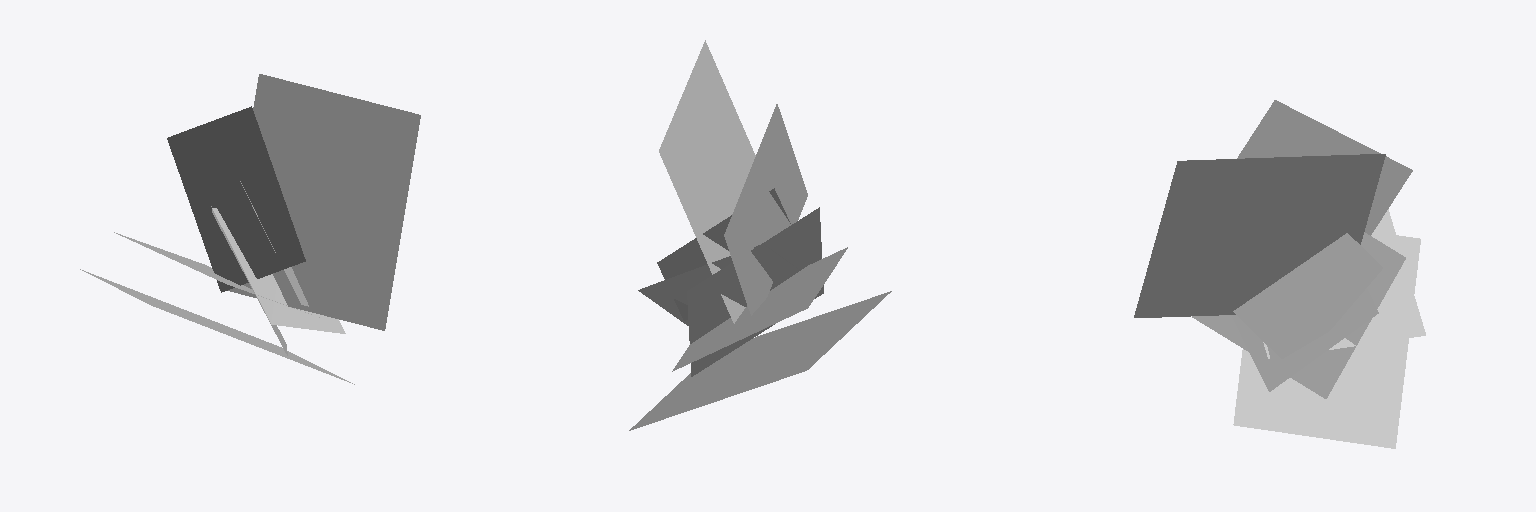
File: boomlinkstakken.obj
3 views of the same model, side by side, from view 1: azimuth 30°, elevation 25°; view 2: azimuth 150°, elevation 25°; view 3: azimuth 270°, elevation 25° (orthographic).
Visible parts, largest first — view 1: boomlinkstak006, boomlinkstak01, Plane023, boomlinkstak05, boomlinkstak04; view 2: boomlinkstak006, boomlinkstak05, boomlinkstak01, boomlinkstak03, boomlinkstak04, boomlinkstak02, Plane023; view 3: boomlinkstak006, boomlinkstak05, boomlinkstak02, boomlinkstak01, boomlinkstak03, Plane023, boomlinkstak04.
Part boxes in pixels (left/top/right/bottom): boomlinkstak006: left=228, top=74, right=420, bottom=330; boomlinkstak01: left=167, top=106, right=305, bottom=292; Plane023: left=212, top=208, right=345, bottom=333; boomlinkstak05: left=80, top=269, right=354, bottom=384; boomlinkstak04: left=114, top=232, right=319, bottom=317; boomlinkstak006: left=659, top=40, right=755, bottom=323; boomlinkstak05: left=629, top=291, right=891, bottom=430; boomlinkstak01: left=724, top=104, right=807, bottom=315; boomlinkstak03: left=687, top=207, right=823, bottom=376; boomlinkstak04: left=672, top=247, right=847, bottom=371; boomlinkstak02: left=657, top=188, right=790, bottom=320; Plane023: left=638, top=244, right=800, bottom=325; boomlinkstak006: left=1134, top=154, right=1385, bottom=317; boomlinkstak05: left=1233, top=235, right=1420, bottom=448; boomlinkstak02: left=1233, top=233, right=1382, bottom=358; boomlinkstak01: left=1237, top=100, right=1412, bottom=235; boomlinkstak03: left=1192, top=232, right=1405, bottom=398; Plane023: left=1231, top=288, right=1378, bottom=391; boomlinkstak04: left=1263, top=209, right=1425, bottom=358.
Size of the model in its own units: 4.38 by 5.62 by 4.87.